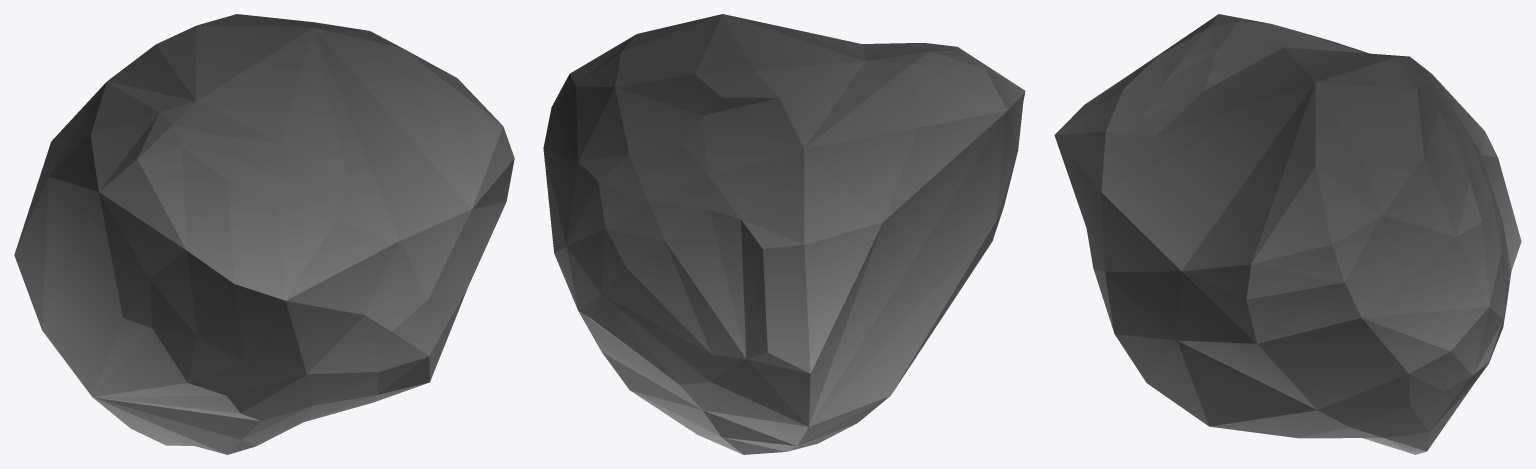
The model's file is Rock_01.fbx.
3 views of the same model, side by side, from view 1: azimuth 30°, elevation 25°; view 2: azimuth 150°, elevation 25°; view 3: azimuth 270°, elevation 25° (orthographic). The views are drawn at different scales.
Parts seen in each view (by area): view 1: Rock_1; view 2: Rock_1; view 3: Rock_1.
Boxes of the visible parts, x1,y1,x2,y2 form: Rock_1: (14, 14, 514, 454); Rock_1: (543, 14, 1025, 454); Rock_1: (1054, 14, 1521, 454).
Bounding box in the file's own units: 240 × 225 × 238.
